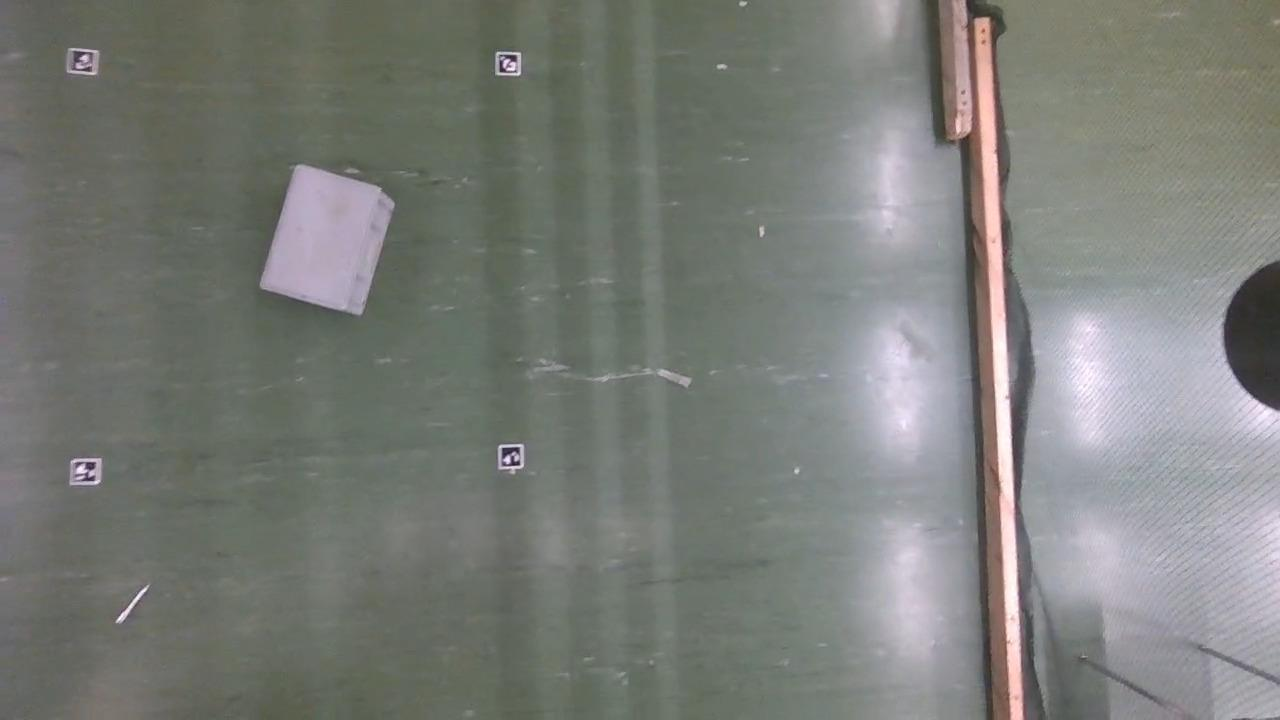probes: (114, 582, 150, 624), (655, 367, 691, 388)
rako: (259, 165, 393, 314)
